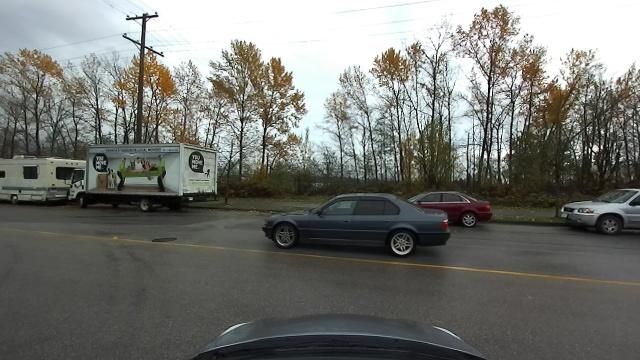car: (257, 194, 453, 260), (68, 141, 221, 216), (559, 187, 640, 238), (1, 146, 65, 208), (412, 184, 493, 230)
